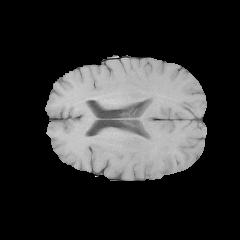glioma: (156, 152, 186, 175)
